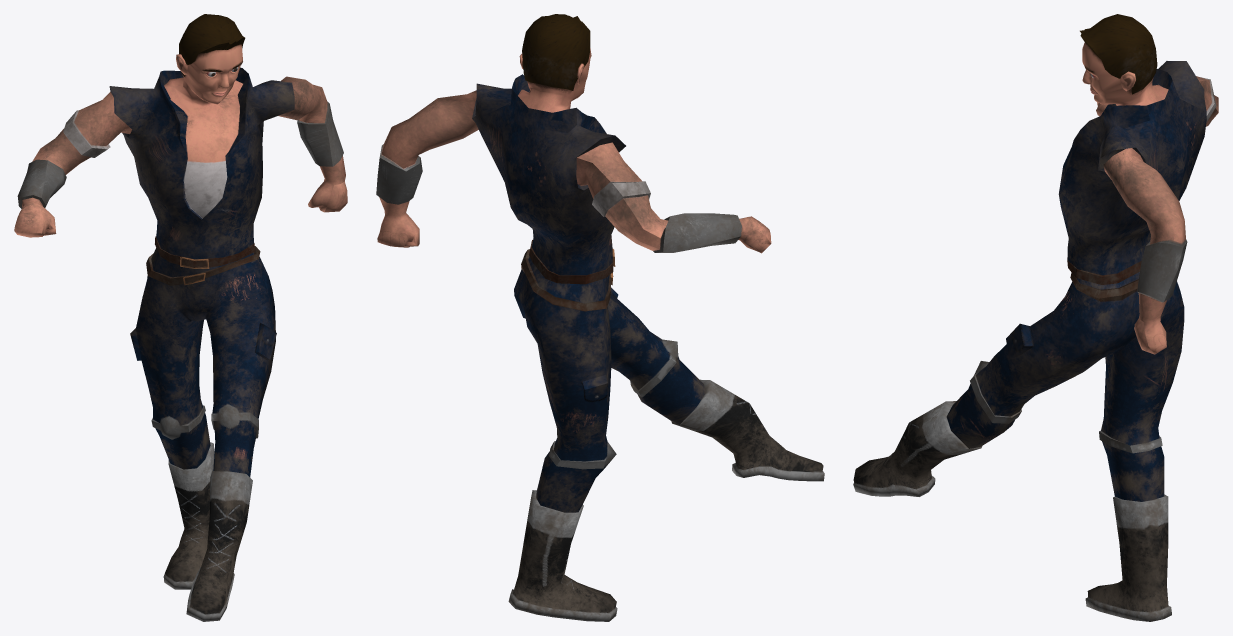
File: Anim_ataque_f2_jugador.0033.obj
3 views of the same model, side by side, from view 1: azimuth 30°, elevation 25°; view 2: azimuth 150°, elevation 25°; view 3: azimuth 270°, elevation 25° (orthographic). The views are drawn at different scales.
Parts seen in each view (by area): view 1: polySurface1; view 2: polySurface1; view 3: polySurface1.
Boxes of the visible parts, left/top/right/bottom form: polySurface1: left=14, top=14, right=347, bottom=621; polySurface1: left=376, top=14, right=824, bottom=621; polySurface1: left=853, top=14, right=1218, bottom=621.
Size of the model in its own units: 6.34 by 9.69 by 5.29.
